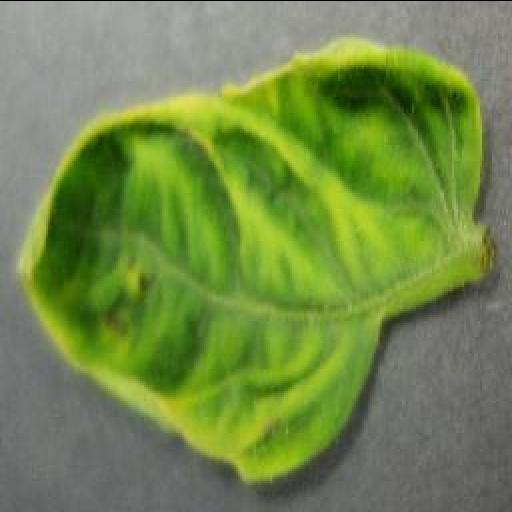disease_tomato: (14, 36, 484, 482)
